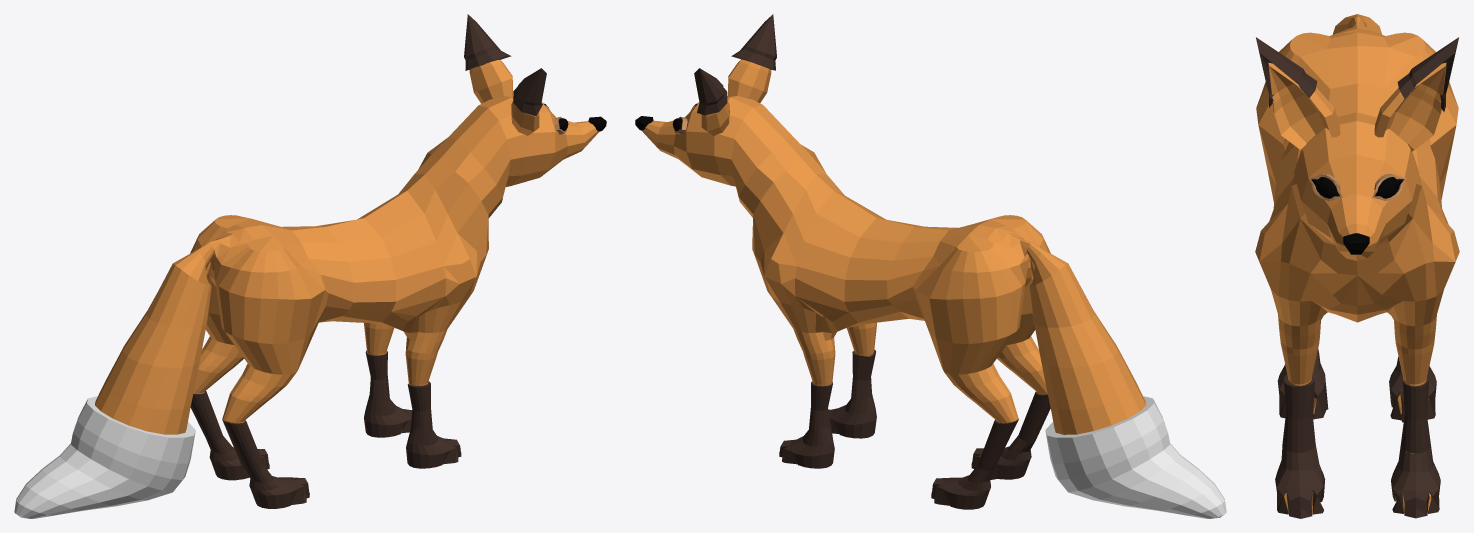
File: fox.fbx
3 views of the same model, side by side, from view 1: azimuth 30°, elevation 25°; view 2: azimuth 150°, elevation 25°; view 3: azimuth 270°, elevation 25° (orthographic). The views are drawn at different scales.
Parts seen in each view (by area): view 1: Sphere.001, Sphere.015, Sphere.017, Sphere.014; view 2: Sphere.001, Sphere.015, Sphere.017, Sphere.014; view 3: Sphere.001, Sphere.017, Sphere.014, Sphere.007, Sphere.010, Sphere.012, Sphere.013, Sphere.011.
Part boxes in pixels (<box>): Sphere.001: <box>95,59,599,434</box>; Sphere.015: <box>14,396,195,518</box>; Sphere.017: <box>190,350,461,508</box>; Sphere.014: <box>464,14,546,115</box>; Sphere.001: <box>641,59,1146,456</box>; Sphere.015: <box>1045,396,1226,518</box>; Sphere.017: <box>779,349,1050,509</box>; Sphere.014: <box>694,14,776,115</box>; Sphere.001: <box>1255,14,1459,512</box>; Sphere.017: <box>1275,349,1440,518</box>; Sphere.014: <box>1256,37,1458,111</box>; Sphere.007: <box>1343,233,1369,254</box>; Sphere.010: <box>1311,177,1339,198</box>; Sphere.012: <box>1375,177,1403,198</box>; Sphere.013: <box>1372,173,1406,201</box>; Sphere.011: <box>1308,174,1342,201</box>.
Size of the model in its own units: 690 by 436 by 151.
